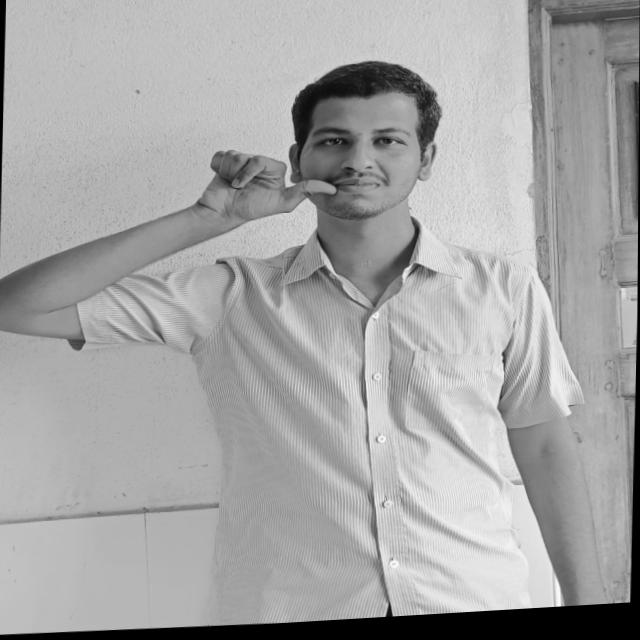Drink: (189, 146, 338, 234)
